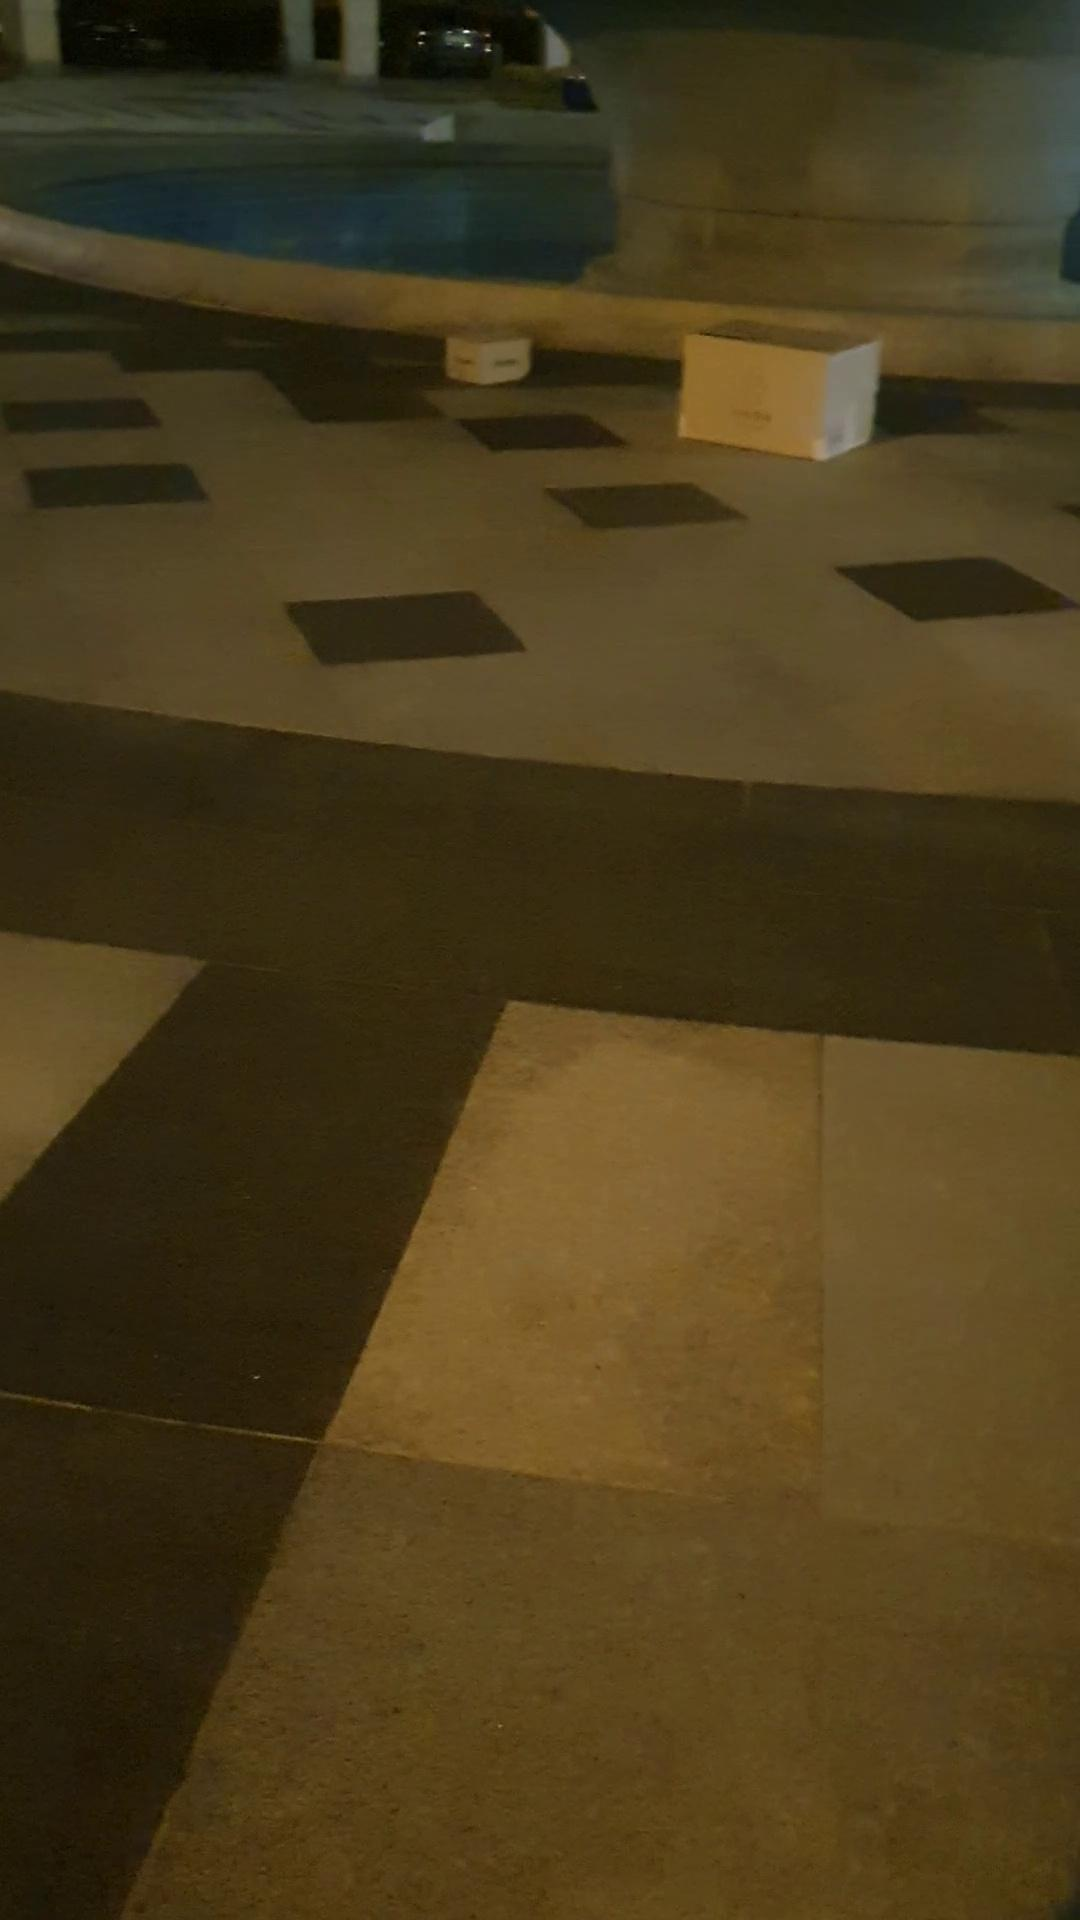Box: (669, 313, 899, 465), (436, 315, 541, 397)
